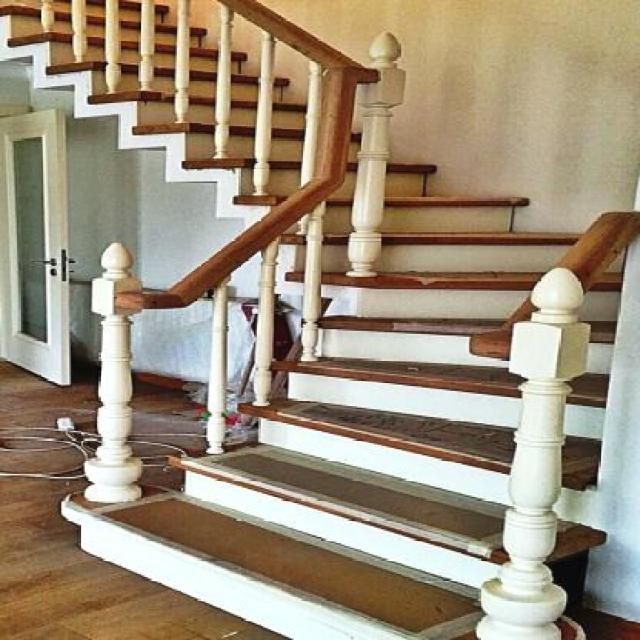stair: (1, 0, 636, 640)
